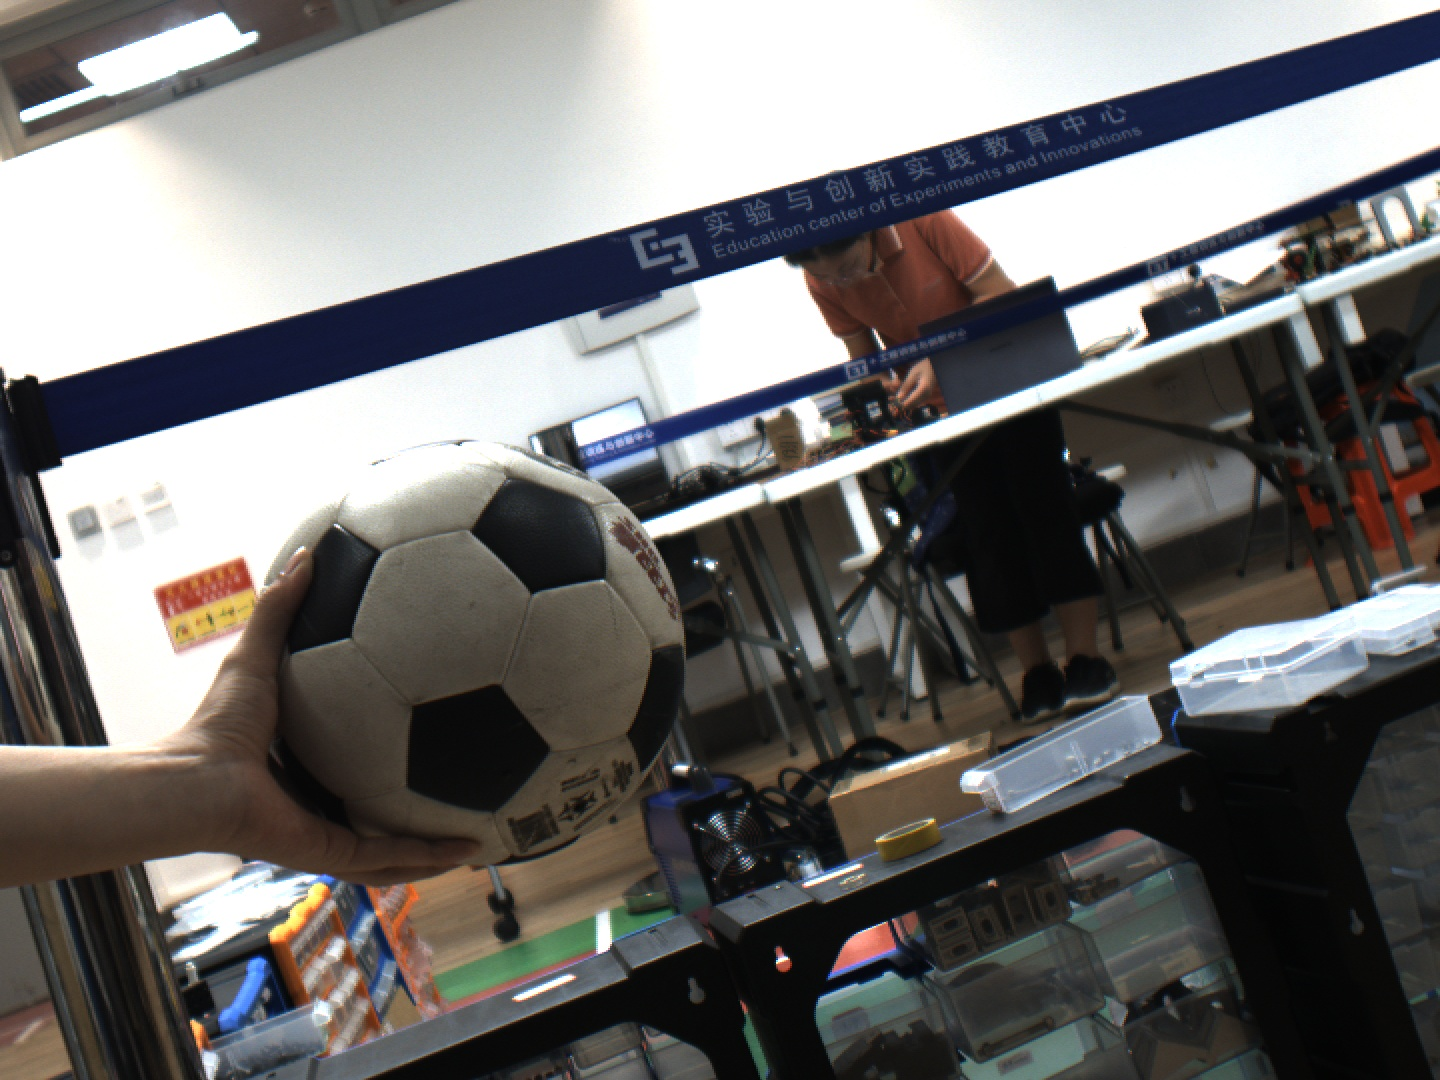ball: (255, 439, 687, 869)
